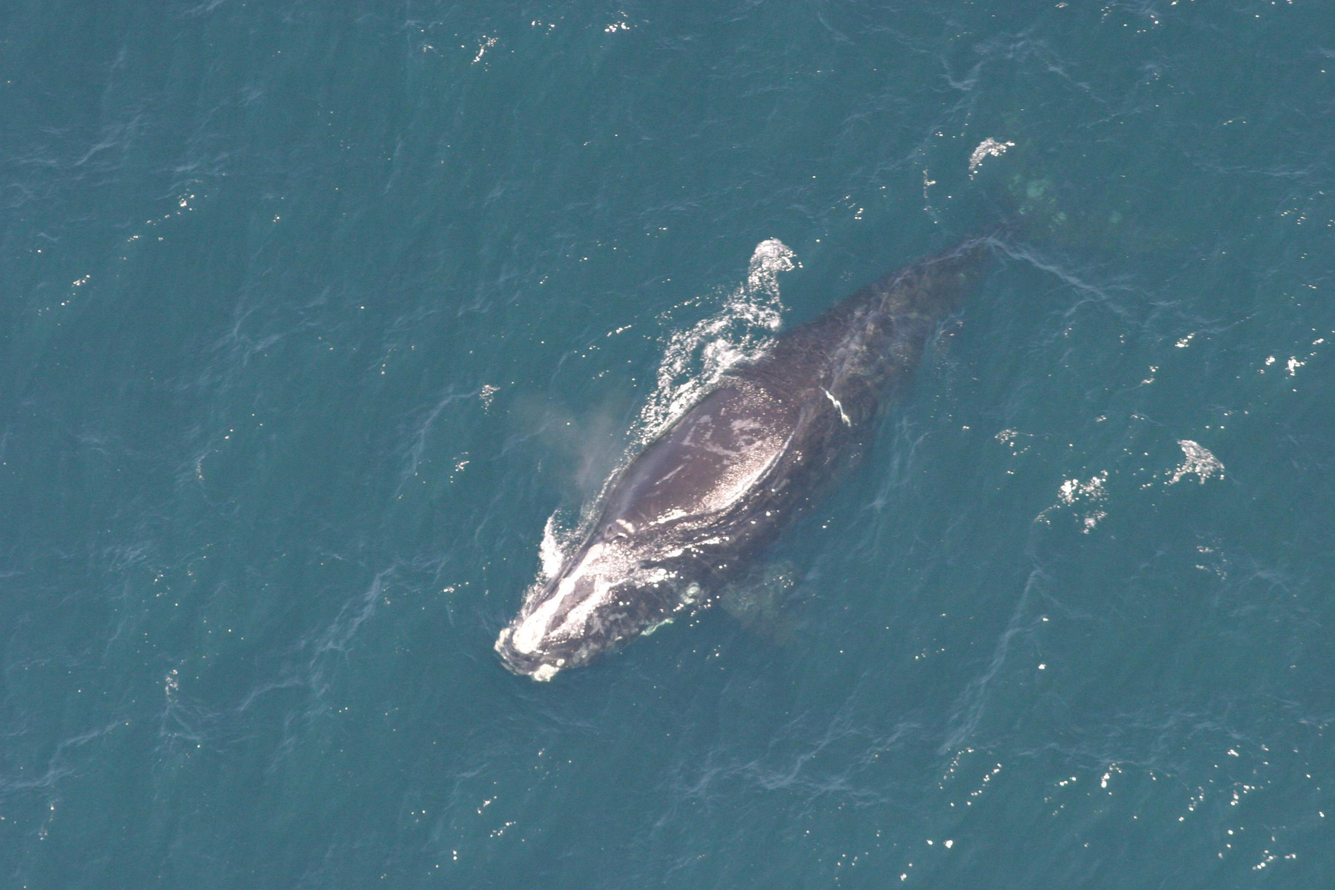whale: (483, 51, 1214, 692)
